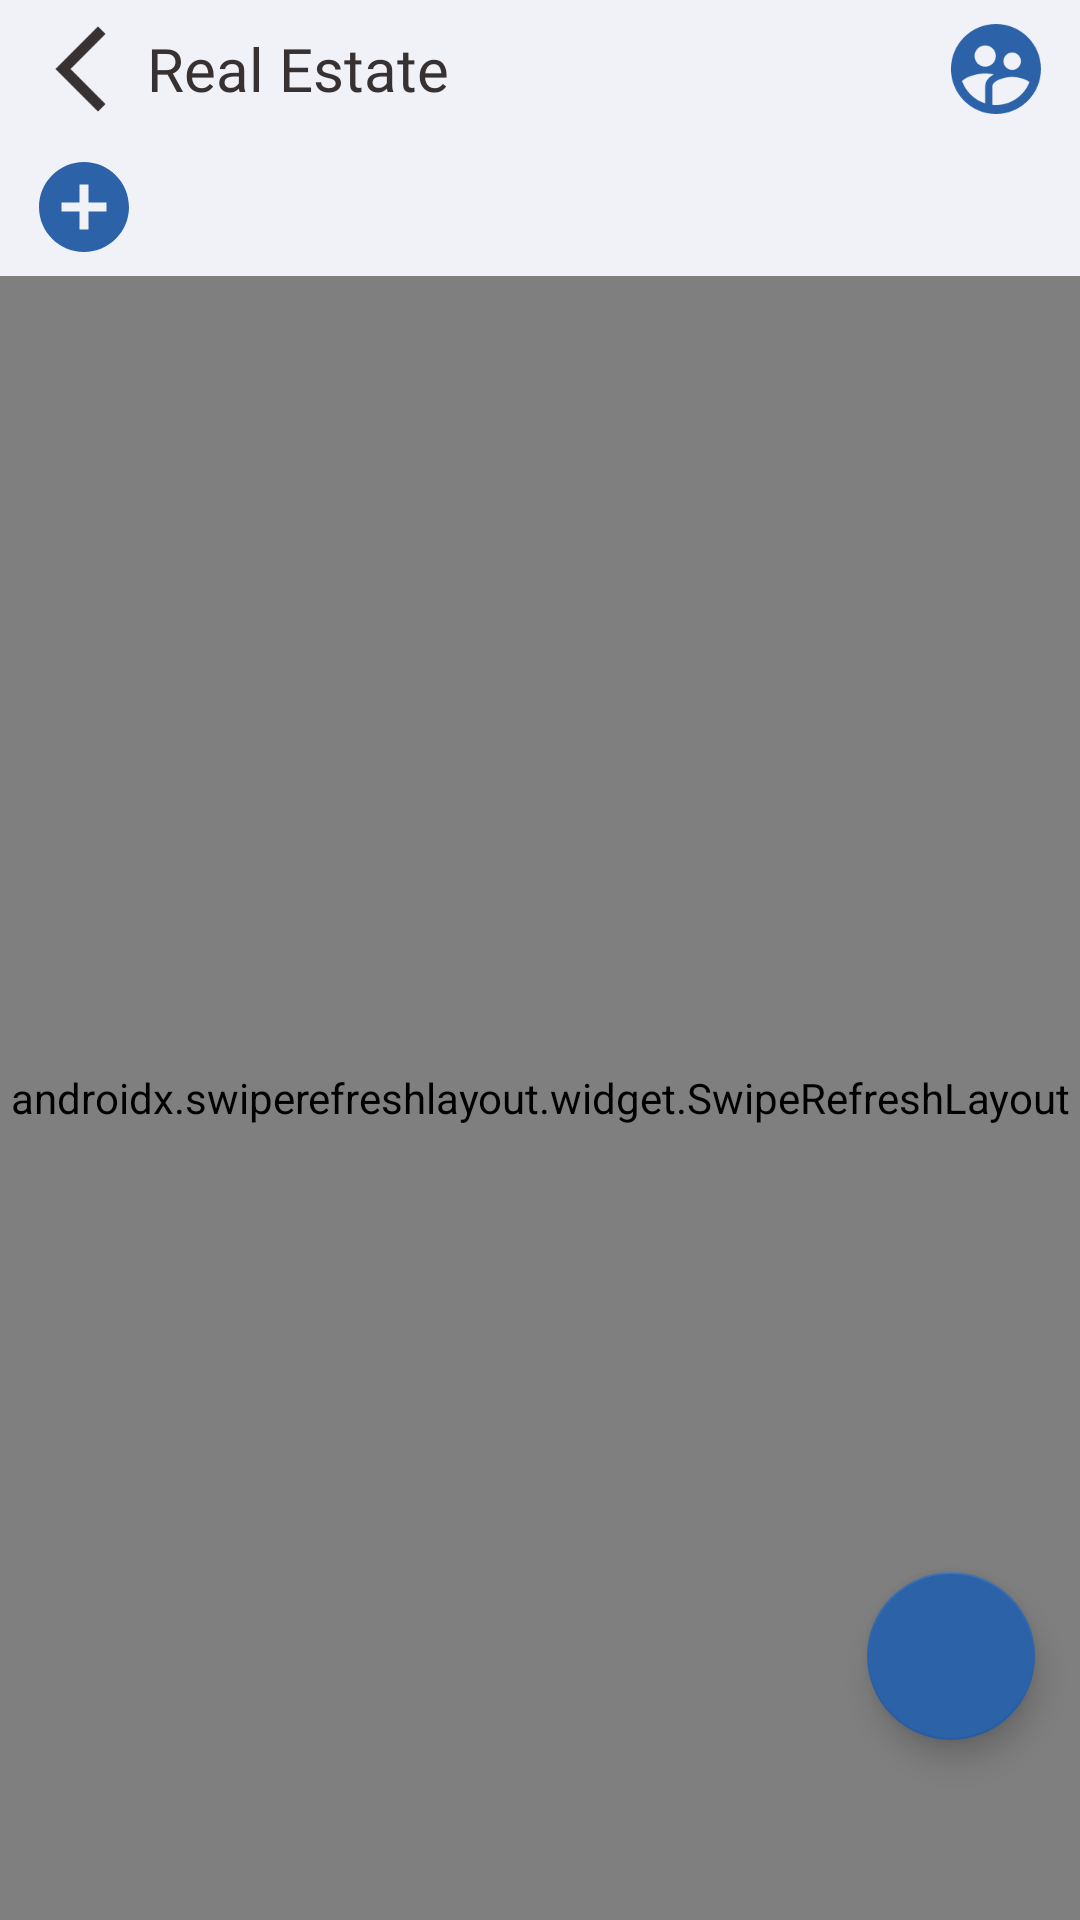

Named icons in this screenshot (1080px×1920px) and their centers, (x=x, y=y):
add: (x=84, y=207)
back: (x=80, y=69)
user: (x=996, y=69)
